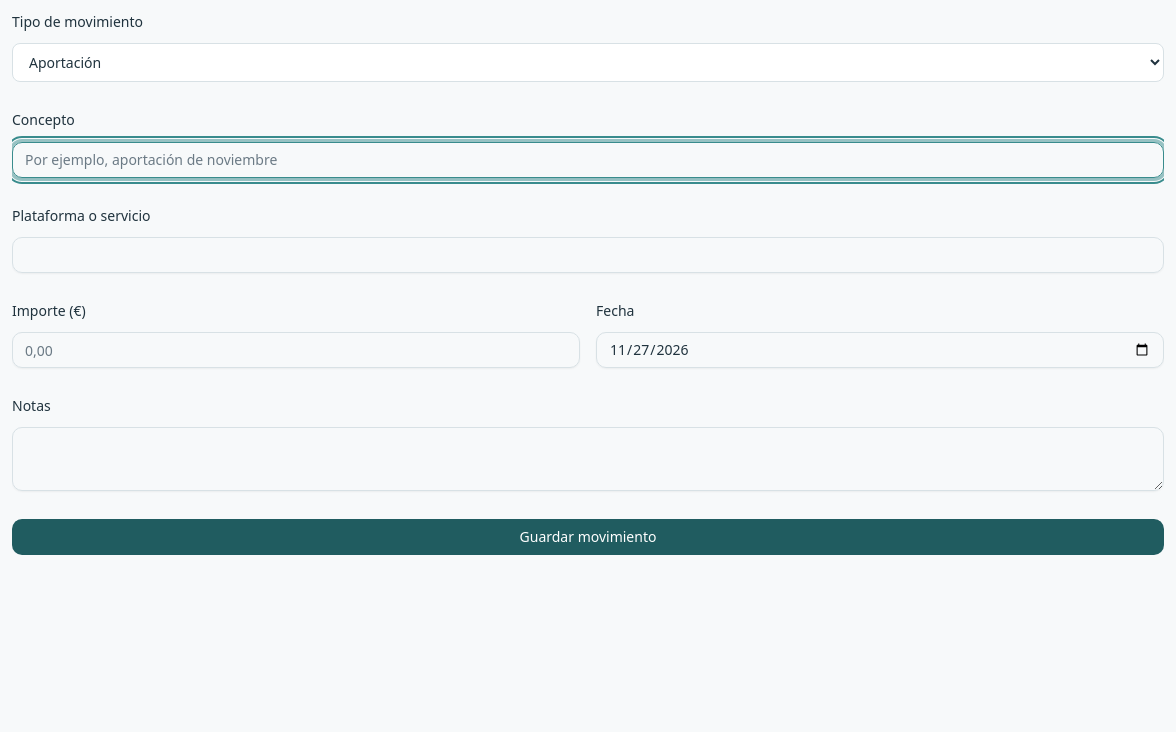
Test: formulario de ahorros e inversión › envía una retirada con céntimos exactos y conserva datos al fallar
In the field labelled "Concepto": (588, 160) [12, 142, 1164, 178], type "Retirada"
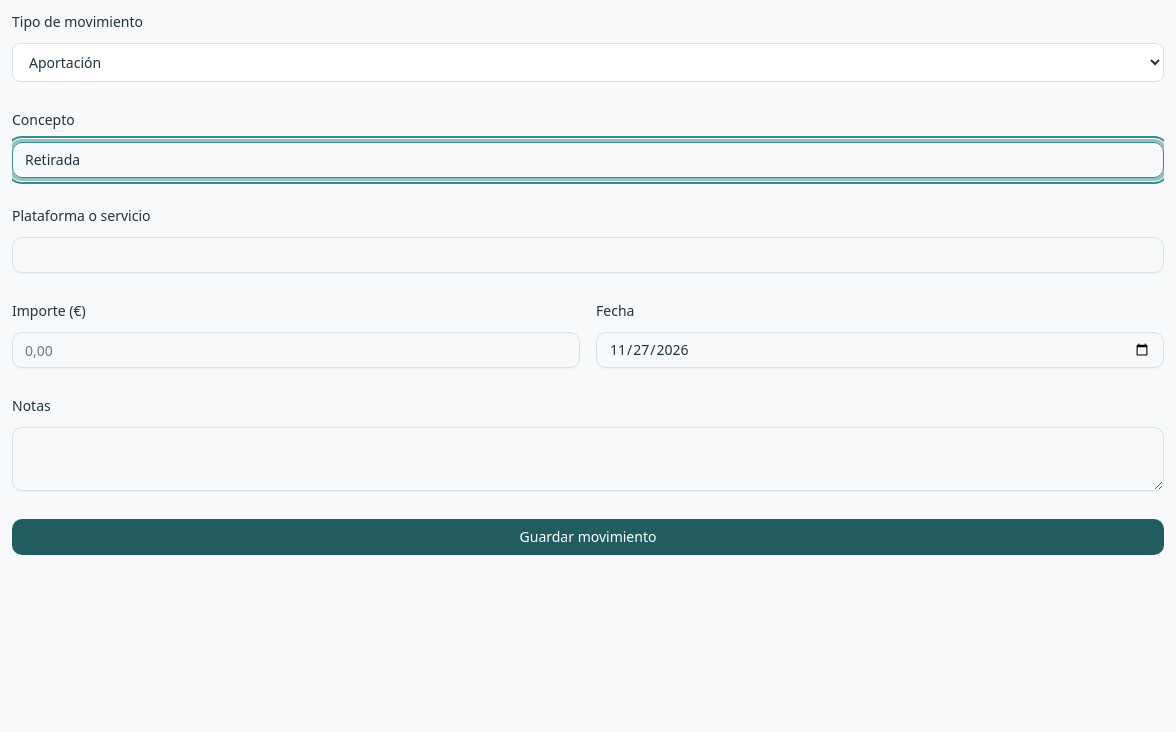
In the field labelled "Plataforma o servicio": (588, 255) [12, 237, 1164, 273], type "Mi plataforma"
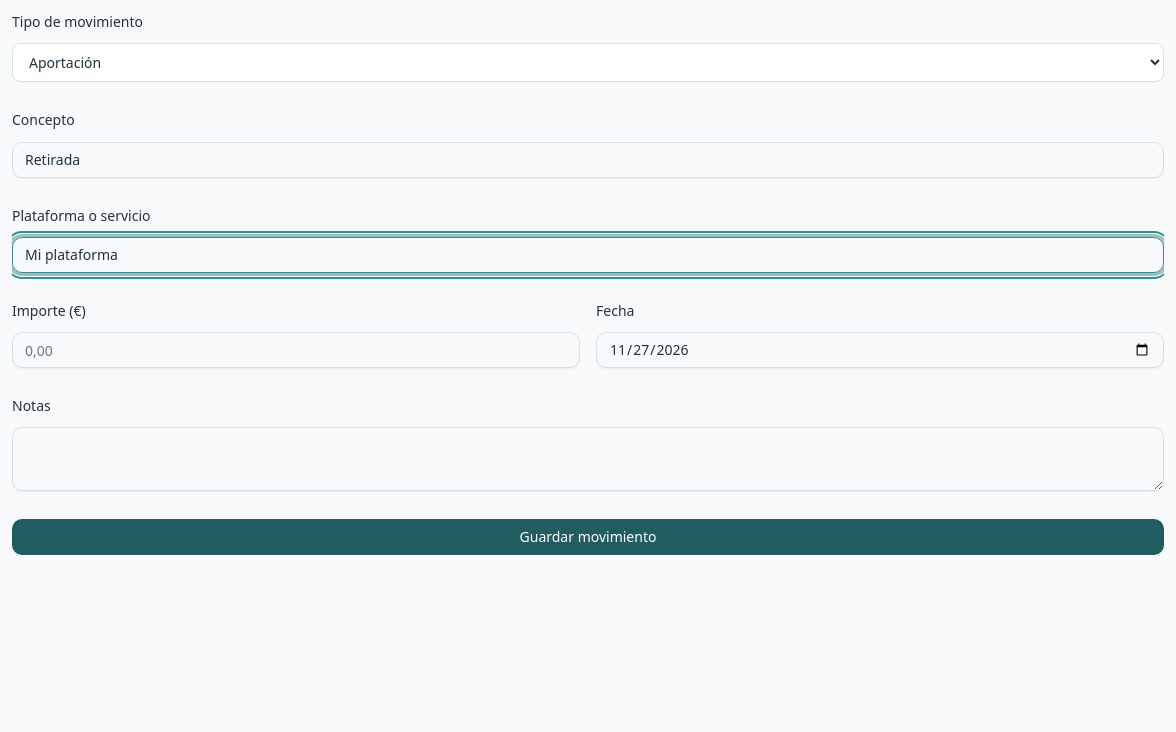
In the field labelled "Importe (€)": (296, 350) [12, 332, 580, 368], type "1.250,75"
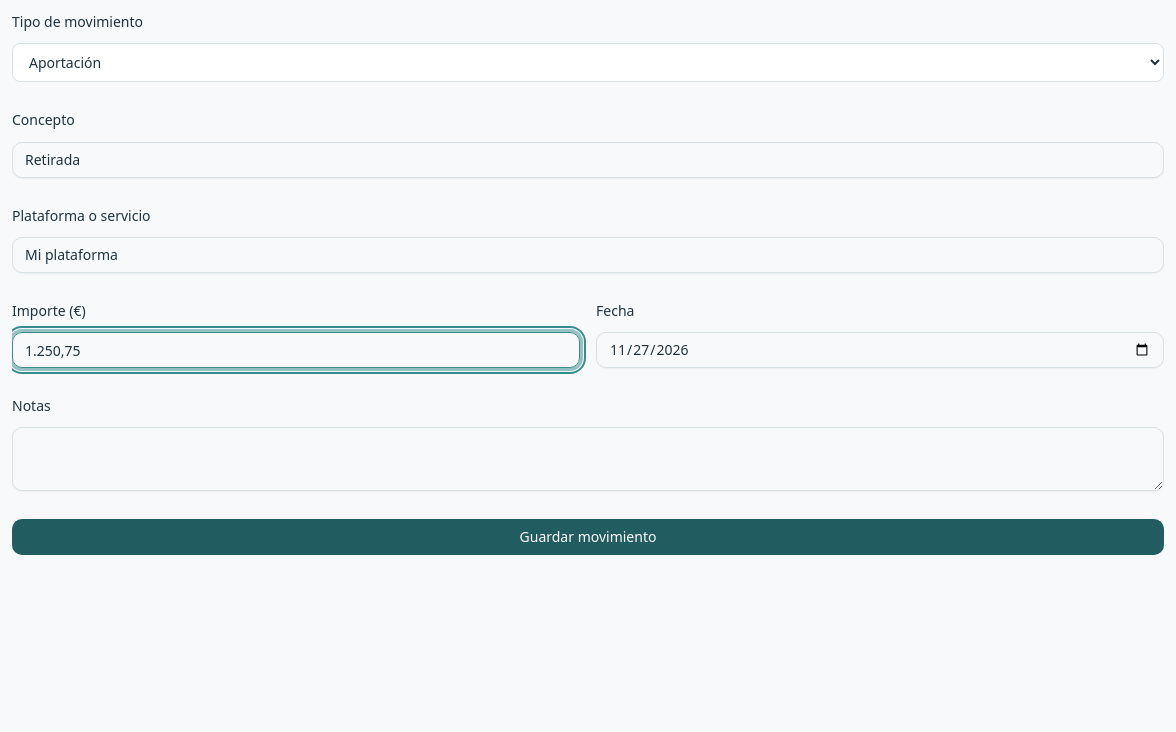
Select "Retirada" in the dropdown labelled "Tipo de movimiento": (588, 63) [12, 43, 1164, 82]
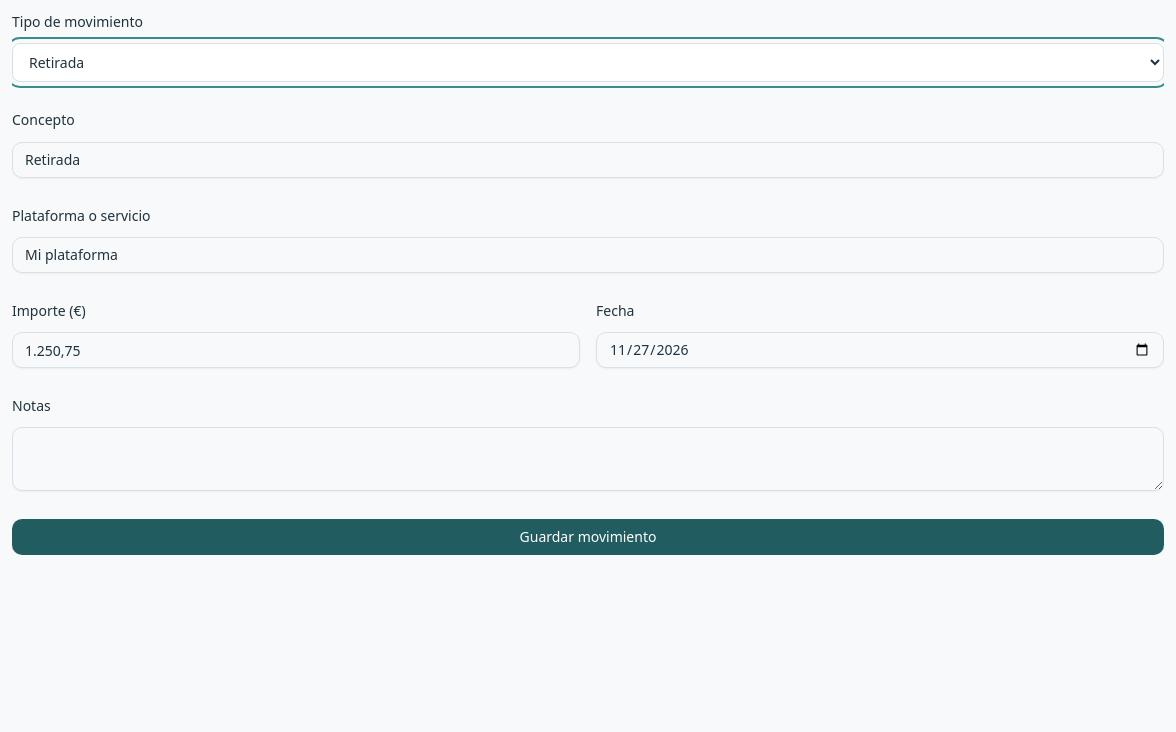
Click the button "Guardar movimiento": click(588, 537) [12, 519, 1164, 555]
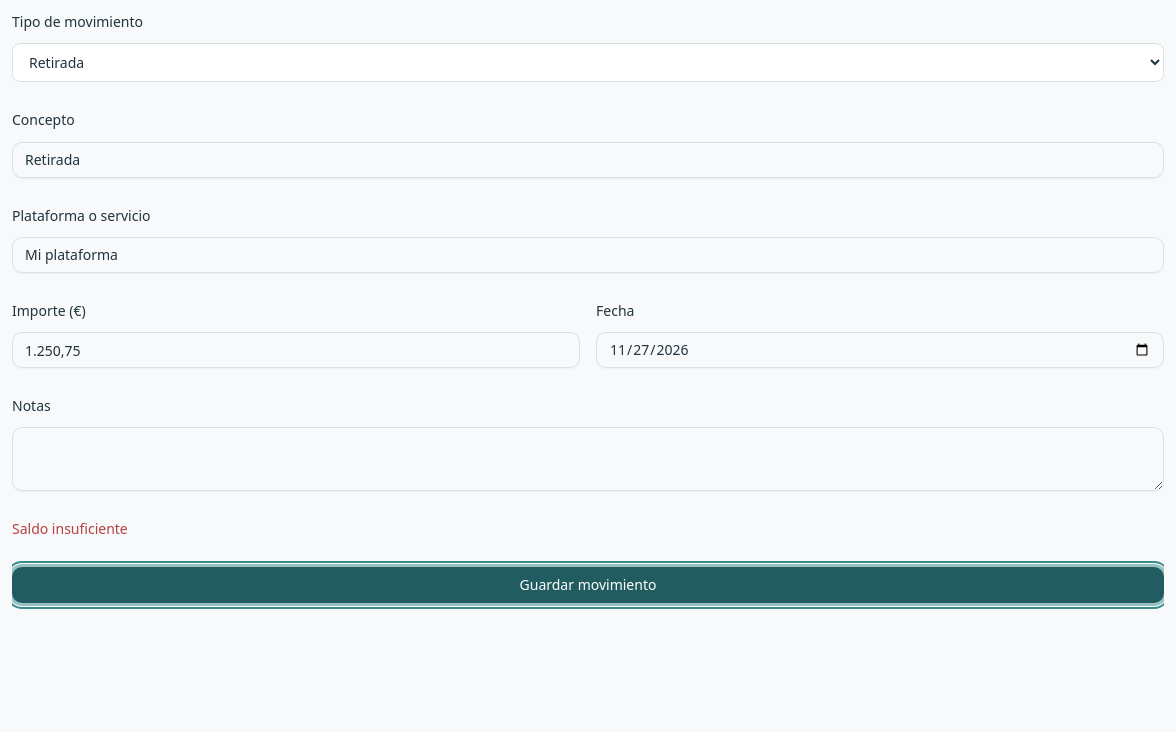
Expected: the message reads "Saldo insuficiente", [12, 519, 128, 538]
